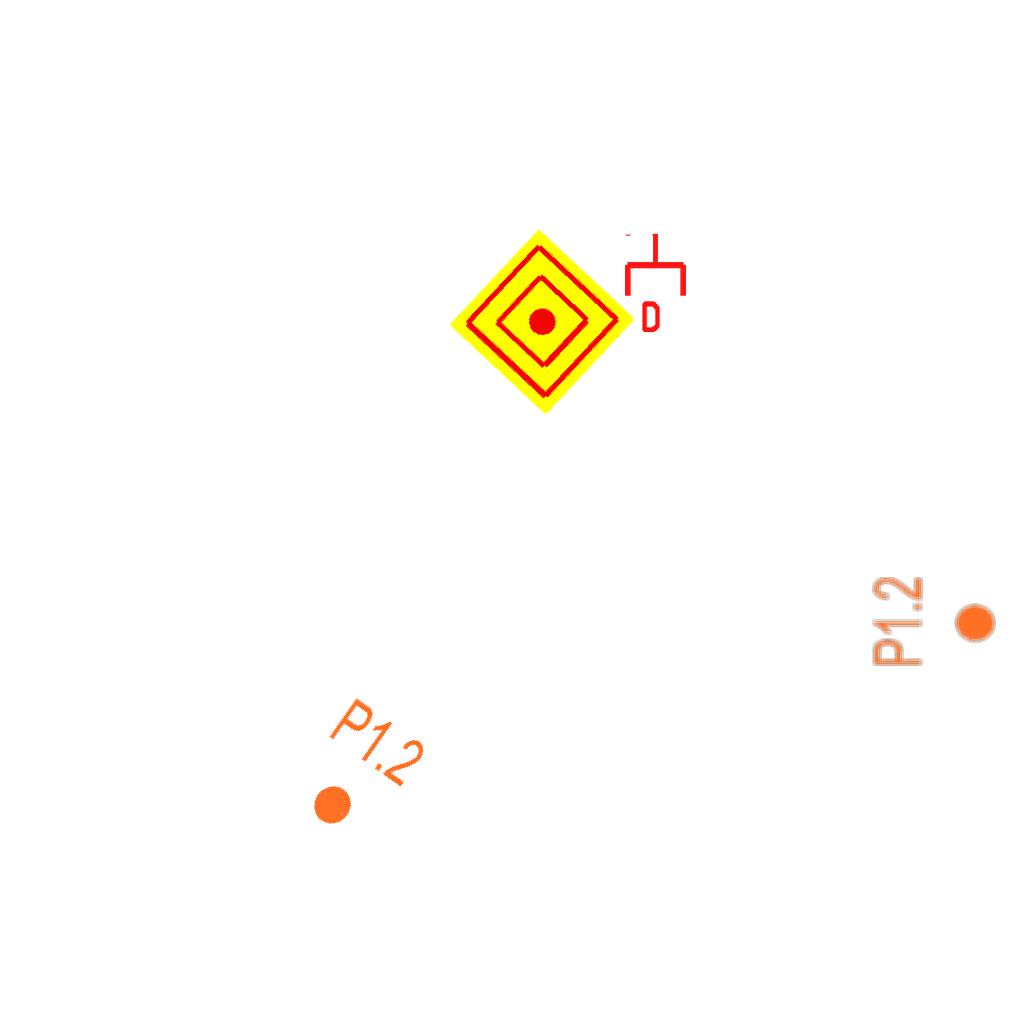Datenanschluss_einfach: (621, 232, 690, 332)
Downlight_LED_Einbauleuchten_Flur: (282, 692, 433, 852), (870, 575, 998, 668)
NAM-Nichtautomatischer_Melder: (448, 228, 636, 416)
